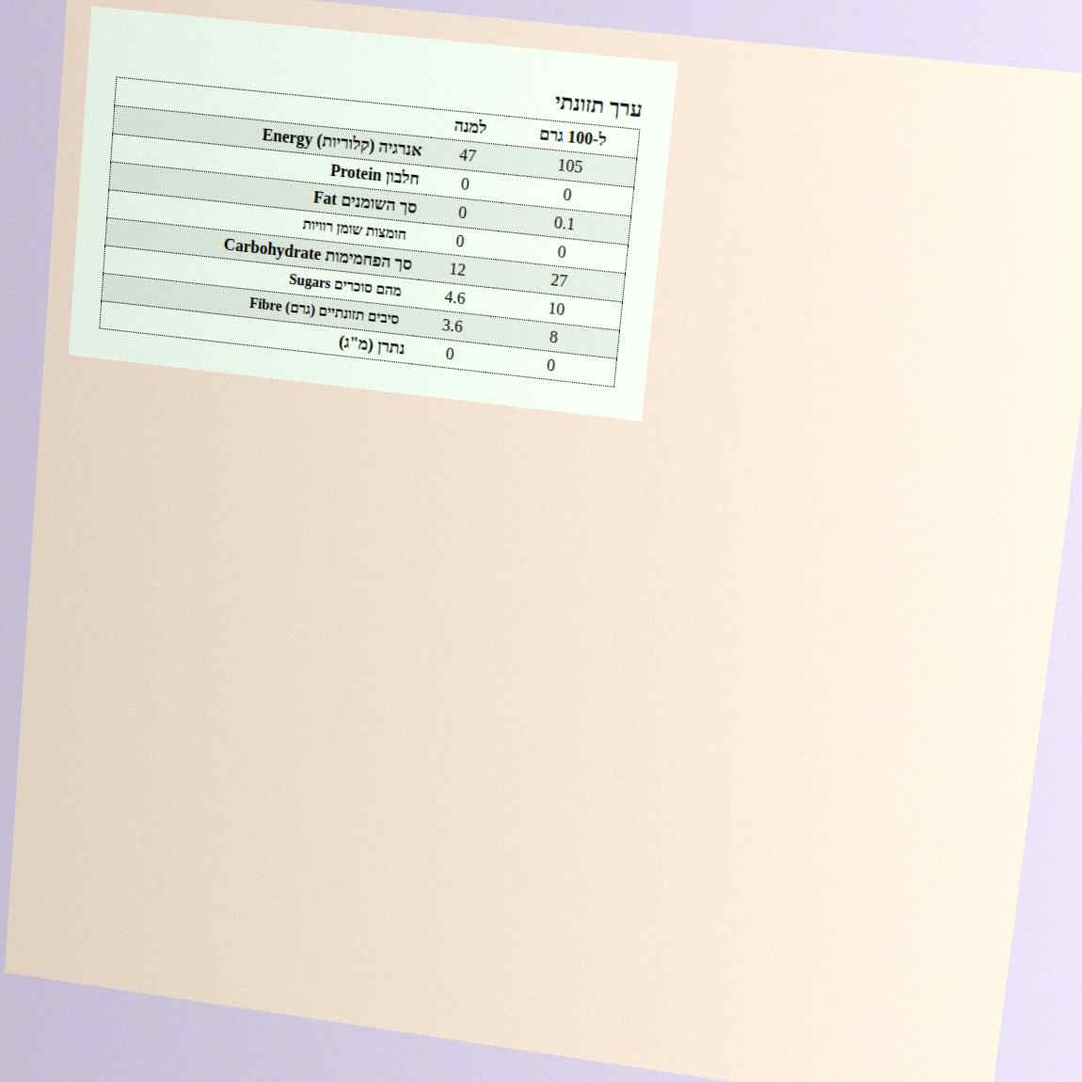carbs: (548, 268, 571, 293)
energy: (554, 153, 586, 179)
fat: (551, 211, 578, 236)
protein: (560, 183, 575, 206)
